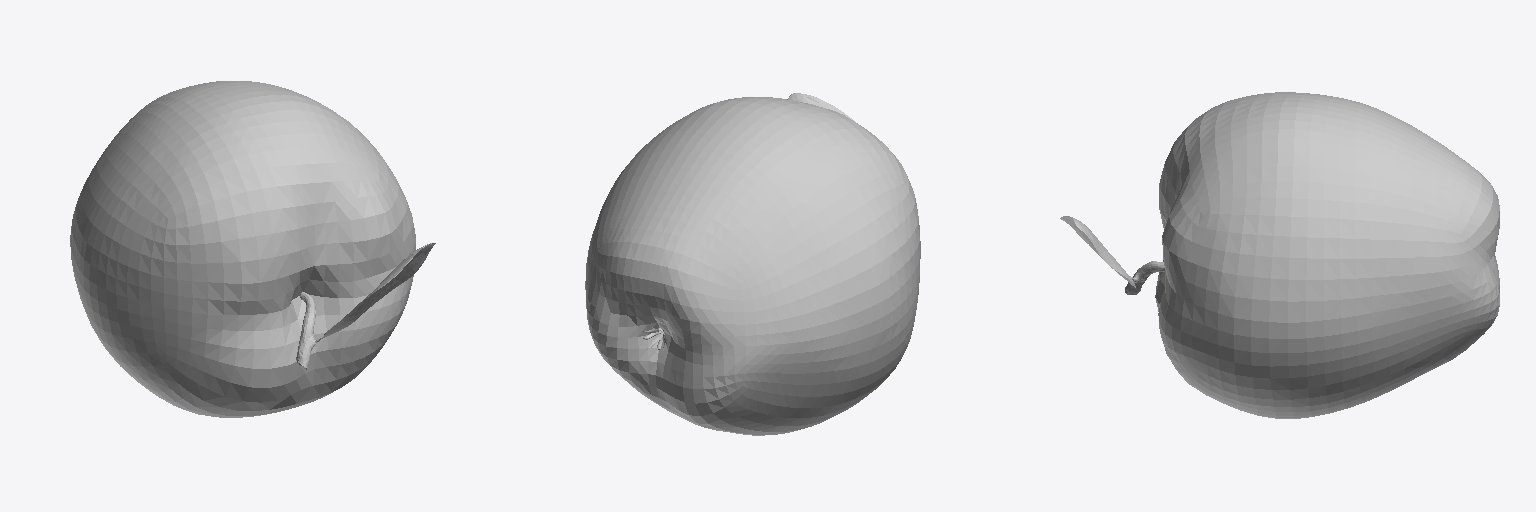
Rendered from Apple.obj.
3 renders of one model, left to right at view 1: azimuth 30°, elevation 25°; view 2: azimuth 150°, elevation 25°; view 3: azimuth 270°, elevation 25°, orthographic.
Visible parts, largest first — view 1: Object.1; view 2: Object.1; view 3: Object.1.
Boxes of the visible parts, x1,y1,x2,y2 form: Object.1: [70, 81, 435, 417]; Object.1: [585, 93, 920, 435]; Object.1: [1060, 92, 1499, 418].
Size of the model in its own units: 129 by 128 by 169.